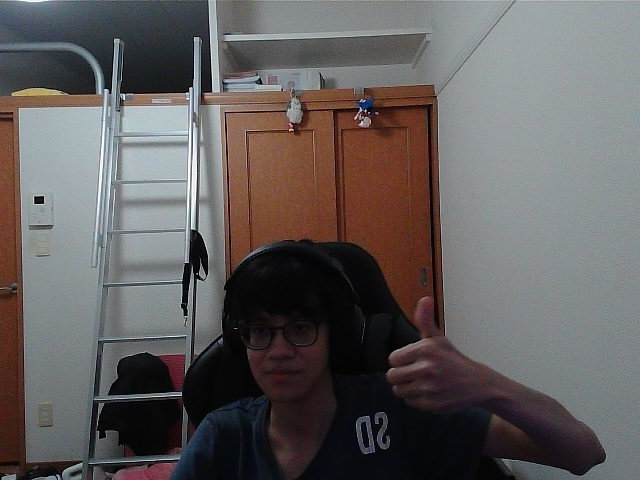thumb_up: (393, 303, 475, 404)
